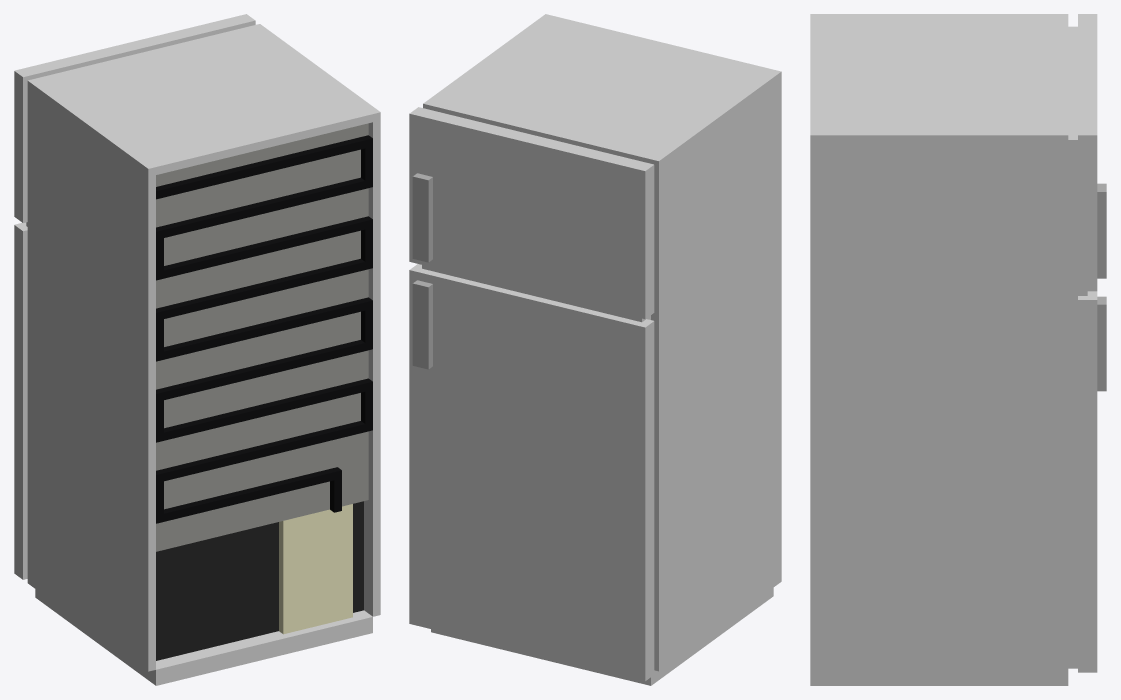
File: fridge_01.dae
The picture shows the model from 3 angles, left to right: view 1: azimuth 30°, elevation 25°; view 2: azimuth 150°, elevation 25°; view 3: azimuth 270°, elevation 25°; orthographic projection. The views are drawn at different scales.
Visible parts, largest first — view 1: Untitled; view 2: Untitled; view 3: Untitled.
Boxes of the visible parts, left/top/right/bottom form: Untitled: left=14, top=14, right=380, bottom=685; Untitled: left=409, top=14, right=781, bottom=685; Untitled: left=810, top=14, right=1106, bottom=685.
Bounding box in the file's own units: 0.9 × 0.93 × 1.92.
Materials: 1 (1 with a texture image).
